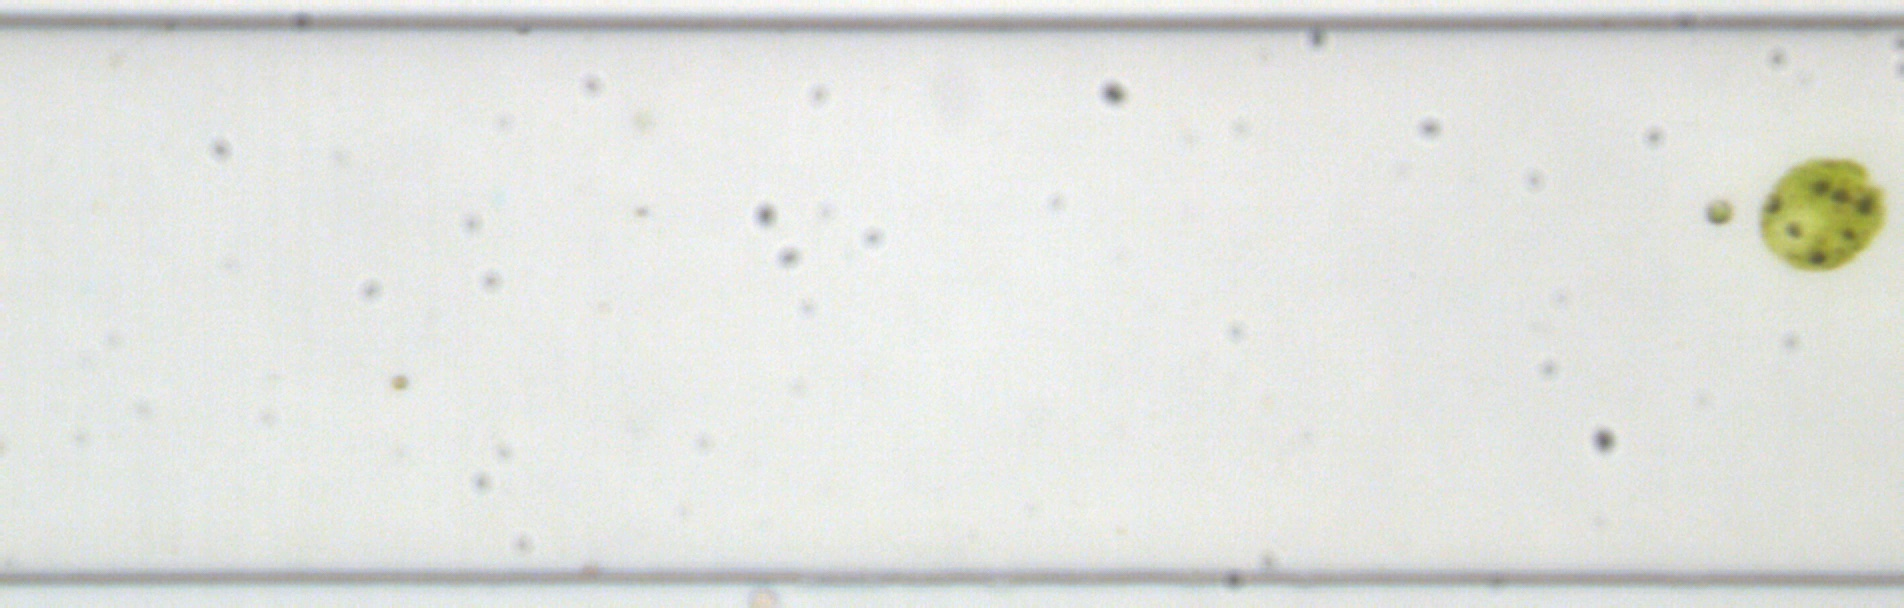Chlorella: (1702, 195, 1736, 227), (390, 371, 410, 390)
Haematococcus: (1750, 153, 1889, 278)
